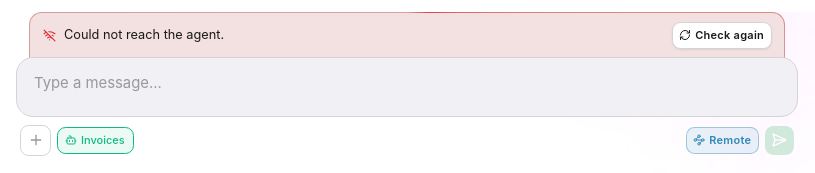
Test case: composer readiness refusal › checks again on request, and lets the message through once the agent is ready
Check: the text "Could not reach the agent." is shown, box [64,27,224,42]
Click the button "Check again" at (722, 35), box [672,22,772,48]
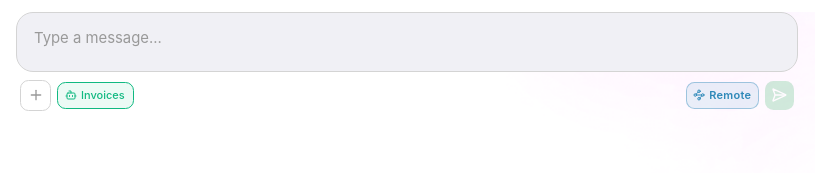
Check: the text "Could not reach the agent." is gone
Type "hello" into the dropdown at (407, 38), box [17,13,797,63]
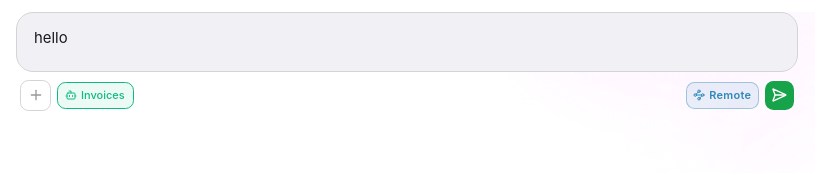
Check: the button named "Send" is enabled, box [765,81,794,110]
